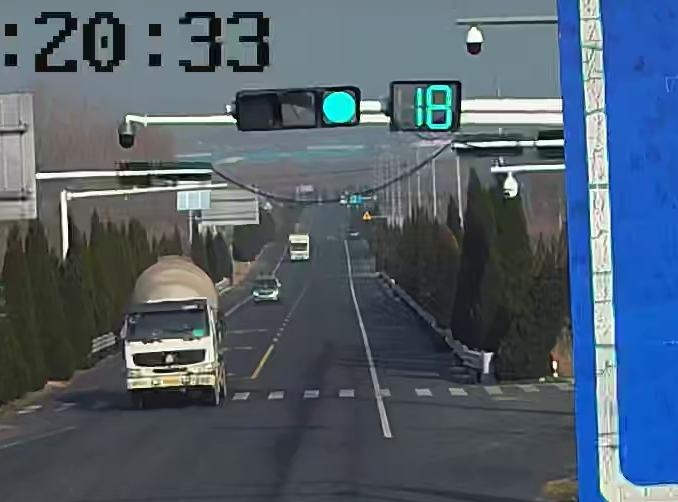green: (318, 86, 360, 127)
greentime: (412, 81, 455, 132)
